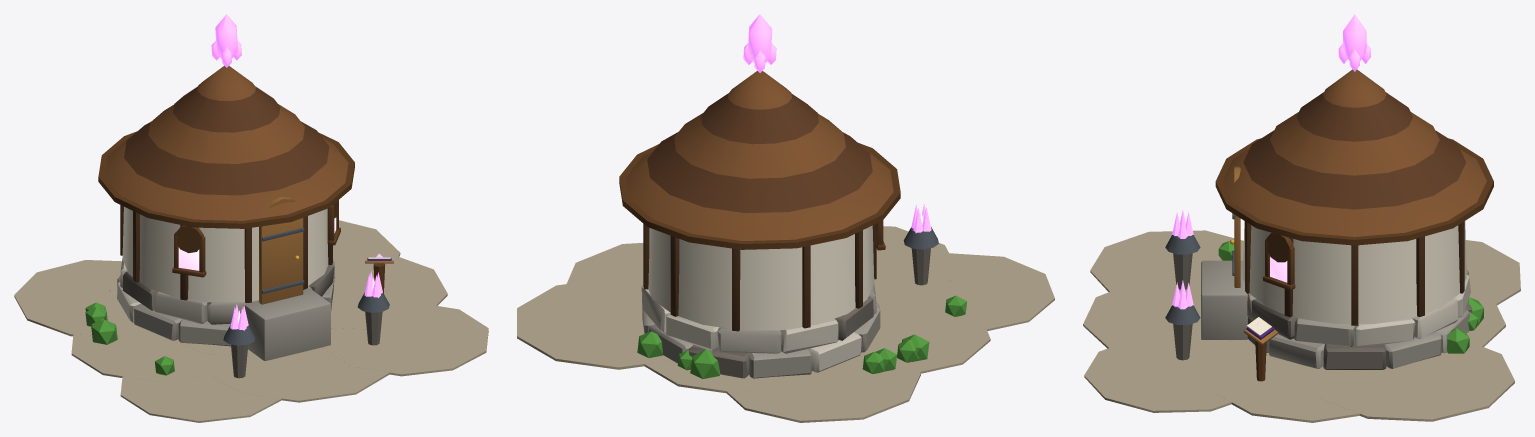
File: budynek_fuzji_poz07.glb
3 renders of one model, left to right at view 1: azimuth 30°, elevation 25°; view 2: azimuth 150°, elevation 25°; view 3: azimuth 270°, elevation 25°, orthographic. The views are drawn at different scales.
Visible parts, largest first — view 1: budynek_fuzji_poz07; view 2: budynek_fuzji_poz07; view 3: budynek_fuzji_poz07.
Part boxes in pixels (x1,y1,x2,y2): budynek_fuzji_poz07: (14, 14, 488, 422); budynek_fuzji_poz07: (517, 14, 1054, 422); budynek_fuzji_poz07: (1083, 14, 1520, 422).
Size of the model in its own units: 8.65 by 6.72 by 8.4.
